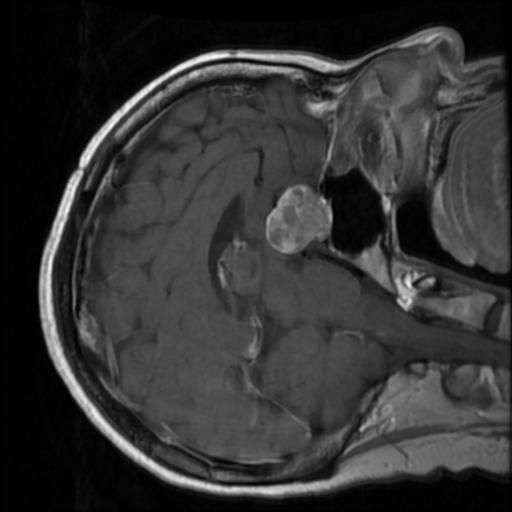pituitary tumour: (264, 183, 332, 254)
